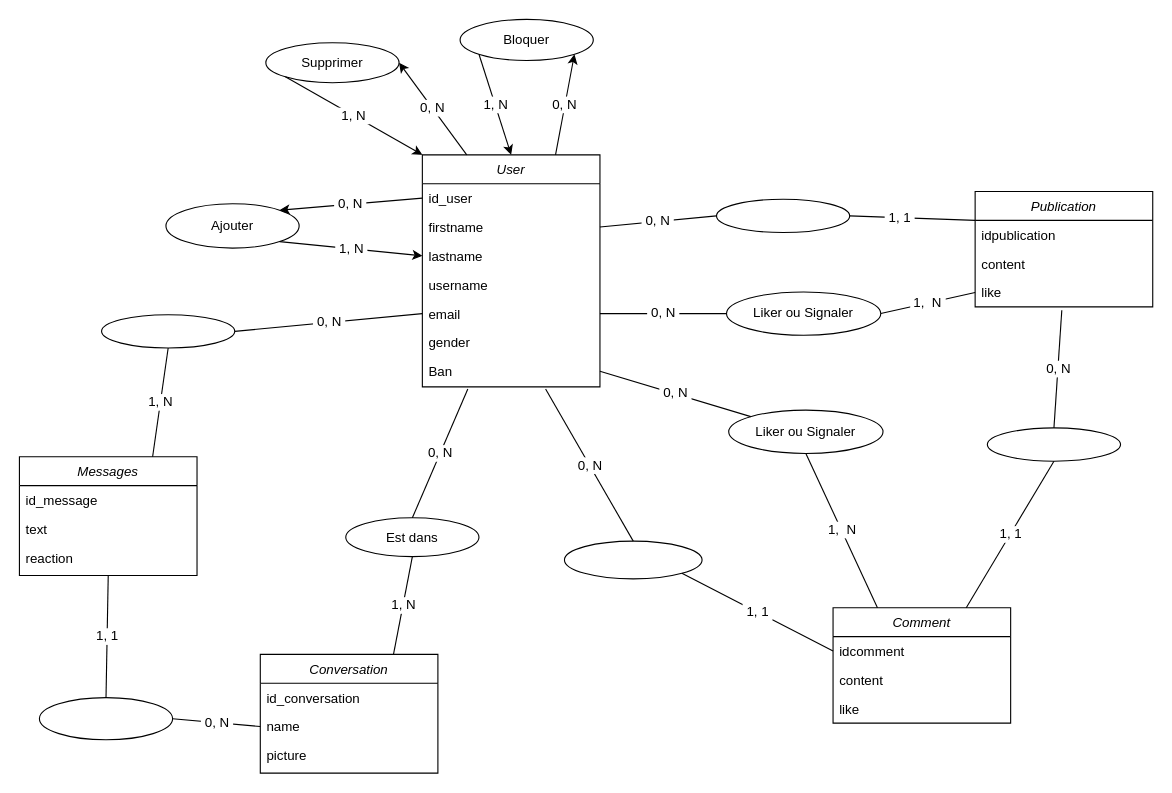
The diagram is 1172 pixels wide and 793 high, and some of its shapes have lost their labels. Each missing label, with the centre of its shape:
Appartient: (105,718)
Contient: (1053,444)
Envoyer: (167,331)
Mettre un: (632,559)
Publier: (782,215)
